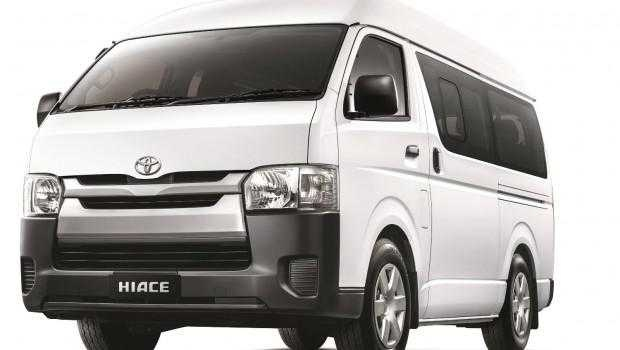van: (19, 1, 556, 350)
